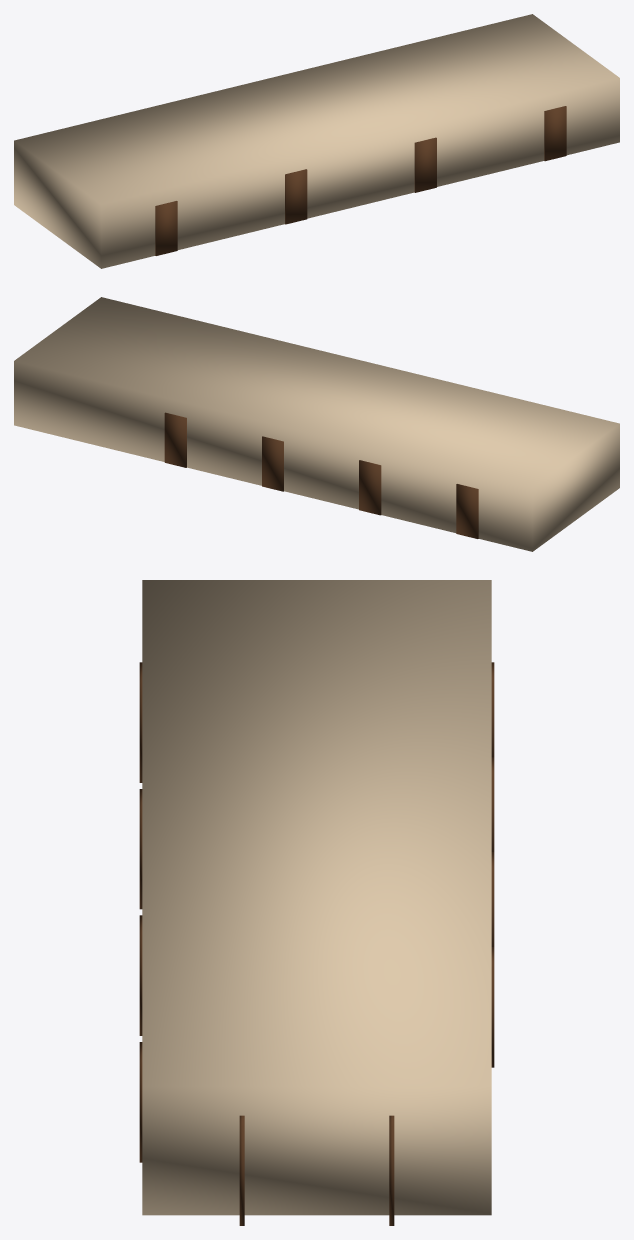
File: ch1_s5_hall.glb
The picture shows the model from 3 angles, top to bottom: view 1: azimuth 30°, elevation 25°; view 2: azimuth 150°, elevation 25°; view 3: azimuth 270°, elevation 25°; orthographic projection. The views are drawn at different scales.
Visible parts, largest first — view 1: S5_Hall_Shell, Mesh_INT_door_5, Mesh_INT_door_7, Mesh_INT_door_6, Mesh_INT_door_8; view 2: S5_Hall_Shell, Mesh_INT_door_1, Mesh_INT_door_4, Mesh_INT_door_2, Mesh_INT_door_3; view 3: S5_Hall_Shell.
Boxes of the visible parts, x1,y1,x2,y2 form: S5_Hall_Shell: (14,14,619,268); Mesh_INT_door_5: (155,201,177,255); Mesh_INT_door_7: (414,137,436,192); Mesh_INT_door_6: (285,169,307,224); Mesh_INT_door_8: (544,106,566,161); S5_Hall_Shell: (14,297,619,551); Mesh_INT_door_1: (456,484,478,538); Mesh_INT_door_4: (164,412,186,467); Mesh_INT_door_2: (359,460,381,515); Mesh_INT_door_3: (262,436,283,491); S5_Hall_Shell: (142,580,491,1215).
Size of the model in its own units: 24.5 by 2.85 by 7.1.
